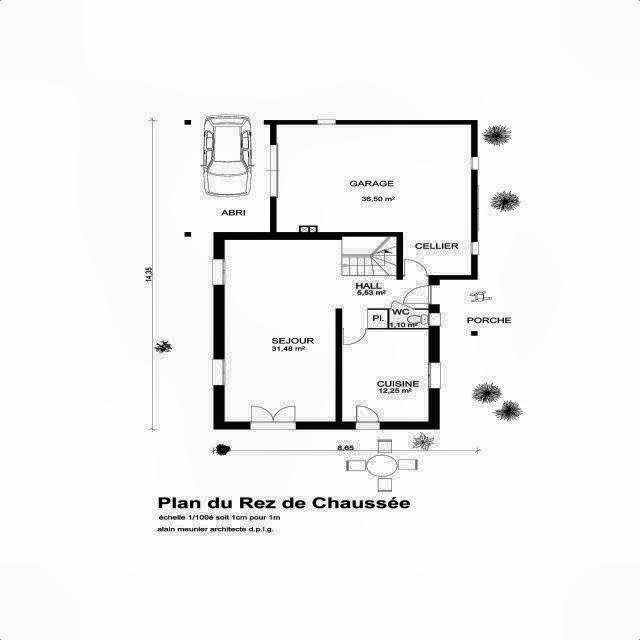room: (224, 237, 429, 421), (276, 125, 471, 275), (342, 329, 428, 421), (342, 310, 387, 328), (389, 310, 428, 328)
